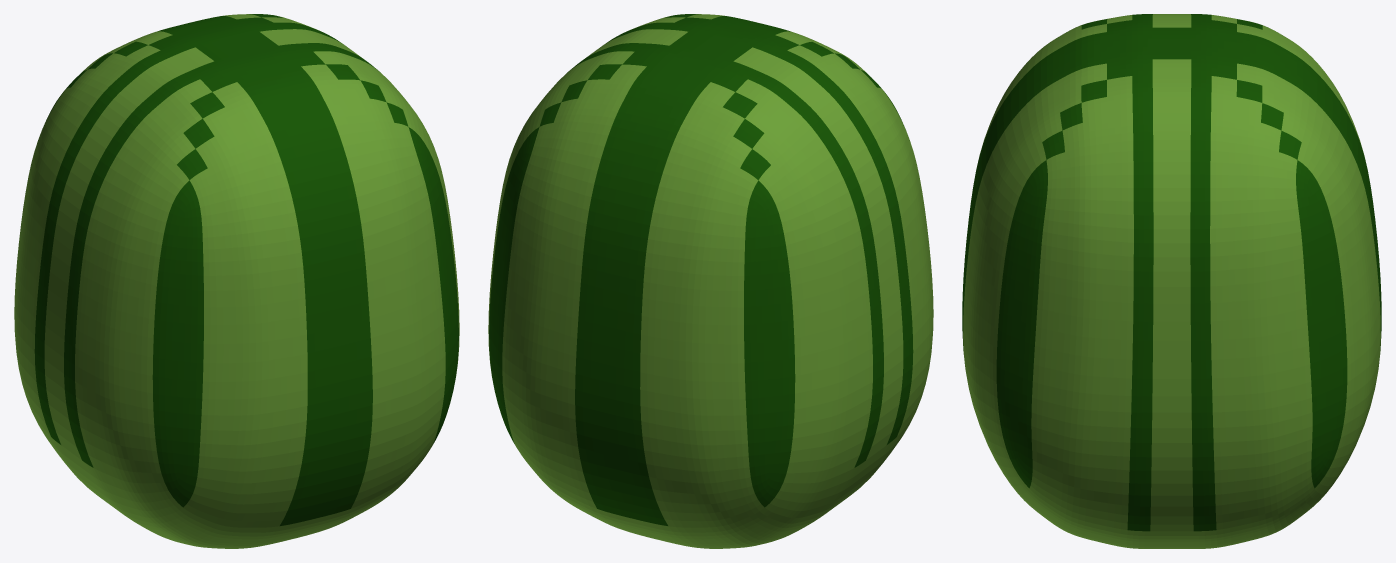
File: Wassermelone.fbx
3 renders of one model, left to right at view 1: azimuth 30°, elevation 25°; view 2: azimuth 150°, elevation 25°; view 3: azimuth 270°, elevation 25°, orthographic.
Visible parts, largest first — view 1: Cube; view 2: Cube; view 3: Cube.
Boxes of the visible parts, x1,y1,x2,y2 form: Cube: [14, 14, 459, 548]; Cube: [488, 14, 933, 548]; Cube: [962, 14, 1381, 548].
Bounding box in the file's own units: 38.92 × 48.06 × 38.21.
